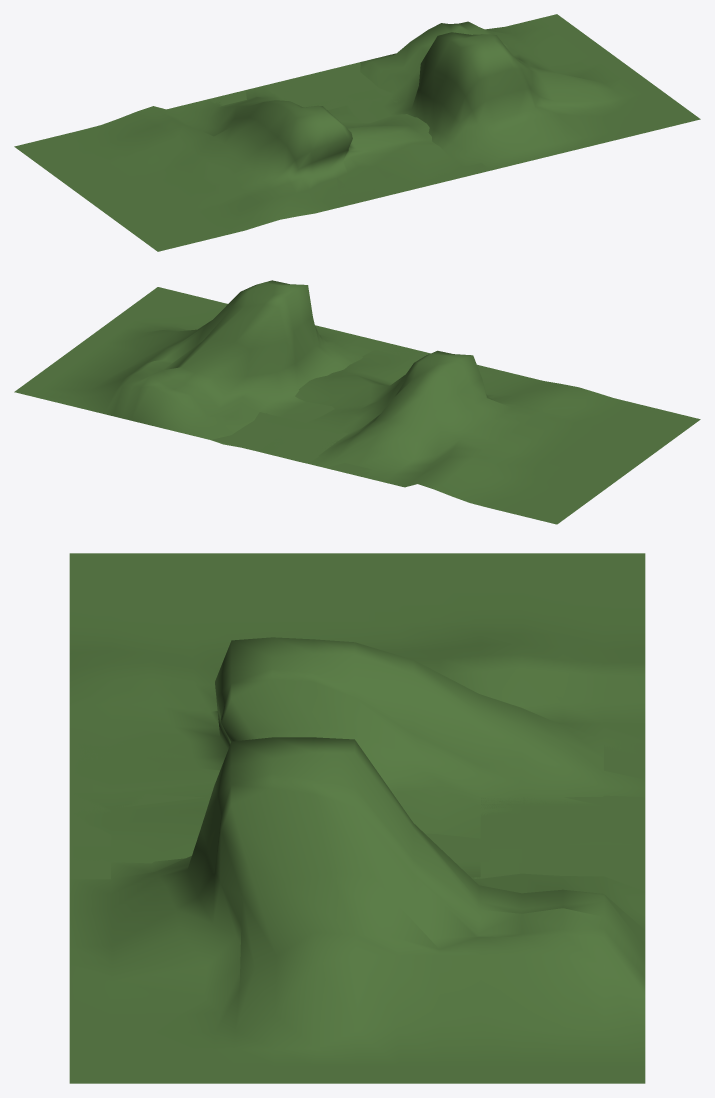
File: terreno_level3.fbx
3 renders of one model, top to bottom at view 1: azimuth 30°, elevation 25°; view 2: azimuth 150°, elevation 25°; view 3: azimuth 270°, elevation 25°, orthographic. The views are drawn at different scales.
Visible parts, largest first — view 1: pPlane1, pPlane3; view 2: pPlane1, pPlane3; view 3: pPlane3, pPlane1.
Part boxes in pixels (x1,y1,x2,y2): pPlane1: (14, 62, 491, 251); pPlane3: (208, 14, 700, 204); pPlane1: (211, 339, 700, 524); pPlane3: (14, 280, 505, 476); pPlane3: (69, 737, 645, 1083); pPlane1: (69, 553, 645, 891).
Bounding box in the file's own units: 65.4 × 9.46 × 30.
